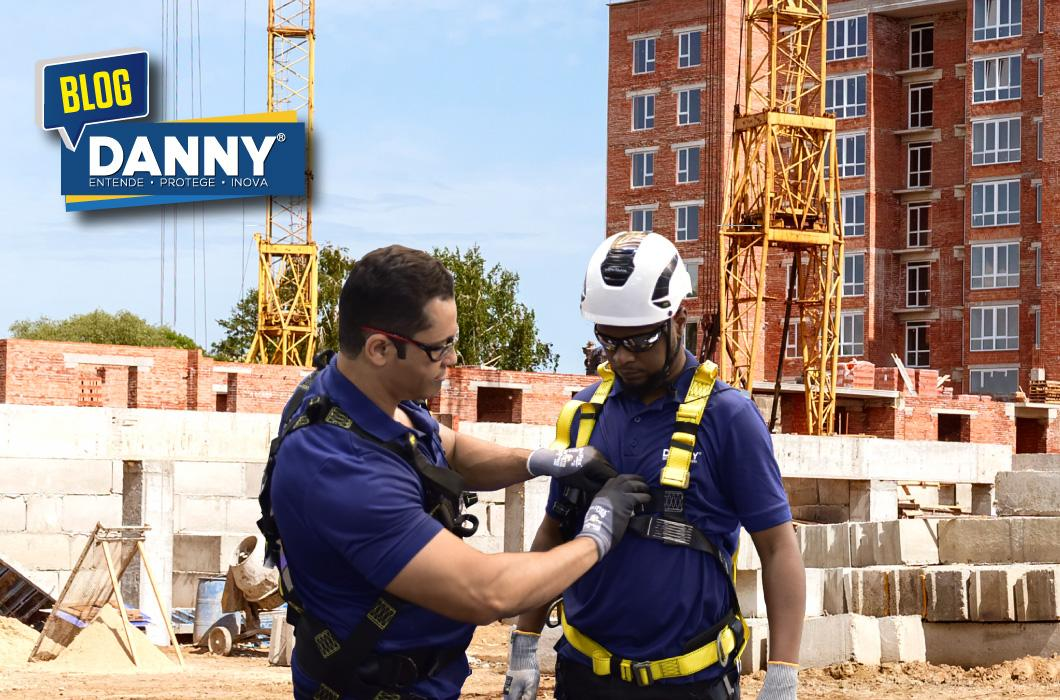capacete: (568, 228, 702, 327)
luva: (583, 481, 656, 556), (496, 619, 547, 700), (531, 440, 608, 481), (757, 656, 805, 700)
oculos de protecao: (359, 316, 466, 361), (587, 330, 677, 354)
pessoa: (548, 228, 806, 700), (266, 225, 498, 700)
uniforme seguranca: (550, 366, 770, 700)
